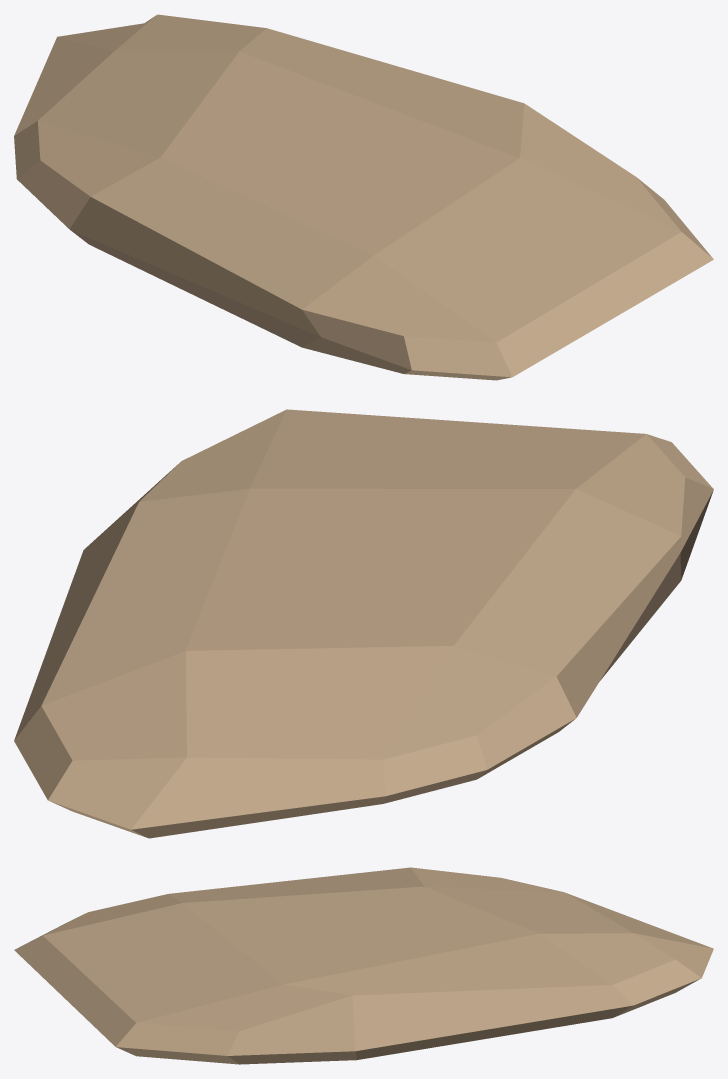
Rendered from rock_18.FBX.
The picture shows the model from 3 angles, top to bottom: view 1: azimuth 30°, elevation 25°; view 2: azimuth 150°, elevation 25°; view 3: azimuth 270°, elevation 25°; orthographic projection. The views are drawn at different scales.
Parts seen in each view (by area): view 1: rock_18; view 2: rock_18; view 3: rock_18.
Boxes of the visible parts, x1,y1,x2,y2 form: rock_18: (14,14,713,380); rock_18: (14,409,713,838); rock_18: (14,867,713,1064).
Bounding box in the file's own units: 974 × 145 × 1637.
